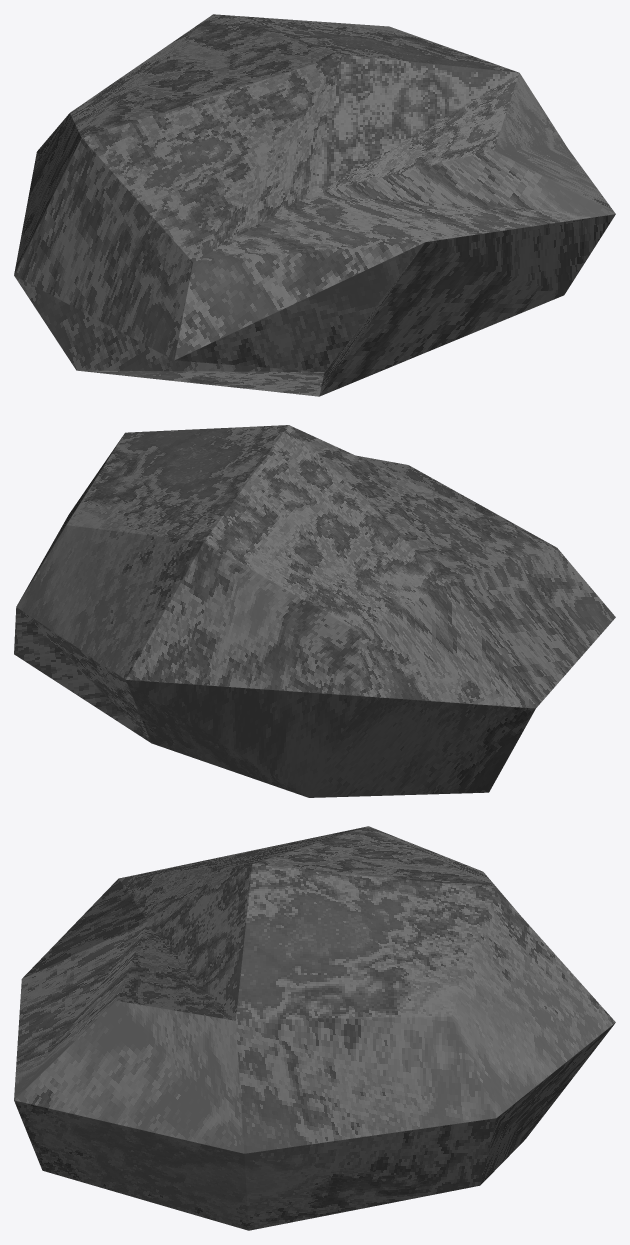
File: Stone_2.glb
3 views of the same model, one above another, from view 1: azimuth 30°, elevation 25°; view 2: azimuth 150°, elevation 25°; view 3: azimuth 270°, elevation 25° (orthographic). The views are drawn at different scales.
Visible parts, largest first — view 1: Cube; view 2: Cube; view 3: Cube.
Boxes of the visible parts, x1=… form: Cube: x1=14, y1=14, x2=615, y2=396; Cube: x1=14, y1=425, x2=615, y2=797; Cube: x1=14, y1=826, x2=615, y2=1230.
Bounding box in the file's own units: 0.7804 × 0.43 × 0.7.
1 material, 1 textured.
